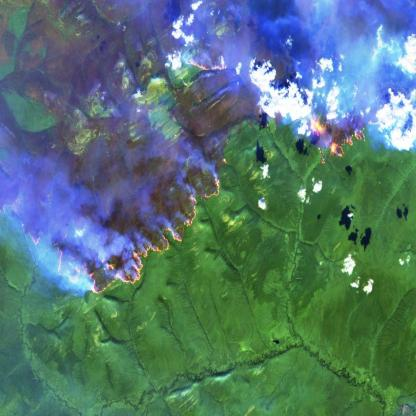fire: (0, 157, 229, 298), (180, 49, 416, 162)
